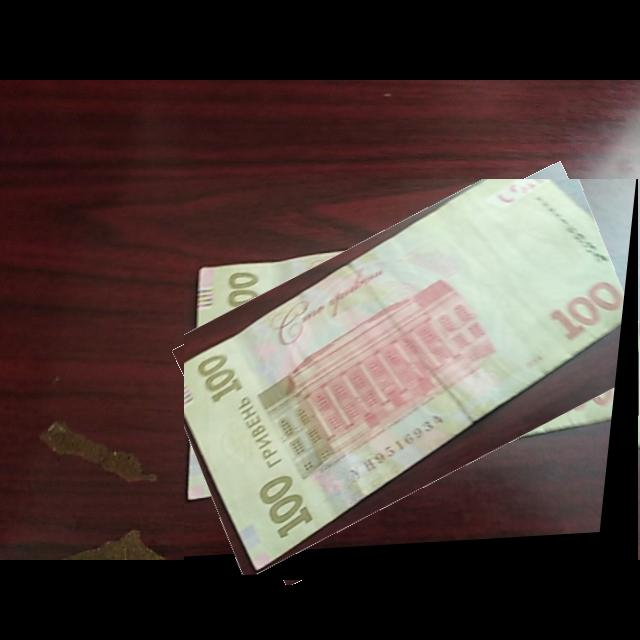100uah: (184, 179, 627, 576)
